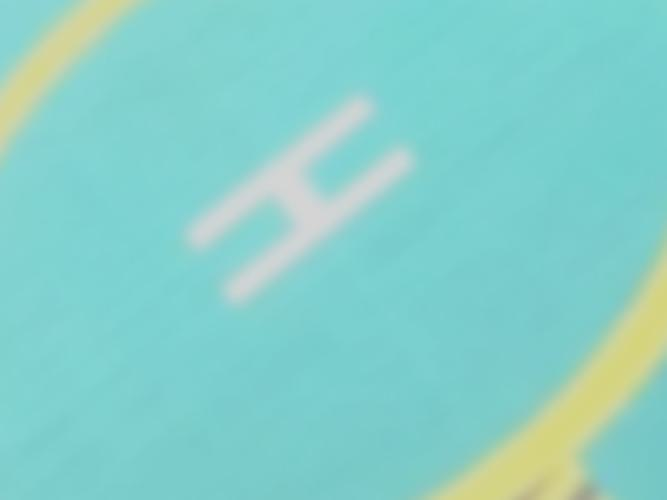Apron: (1, 1, 667, 499)
